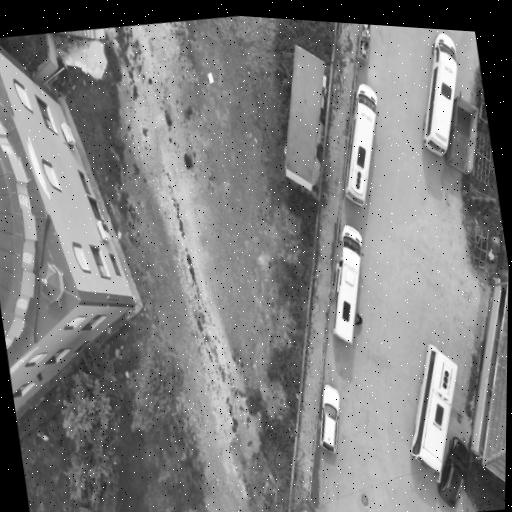bus: (411, 344, 457, 473), (423, 32, 458, 155), (345, 83, 377, 205), (333, 225, 363, 343)
car: (437, 437, 468, 508), (320, 385, 339, 453)
person: (354, 314, 362, 326)
truck: (445, 96, 477, 174)
